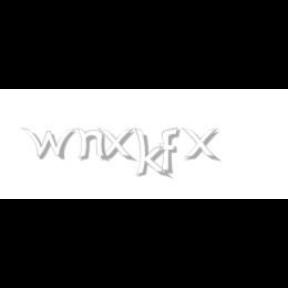f: (160, 128, 184, 174)
k: (134, 128, 172, 180)
n: (76, 128, 110, 162)
w: (22, 128, 80, 160)
x: (98, 128, 140, 162), (182, 128, 224, 162)
